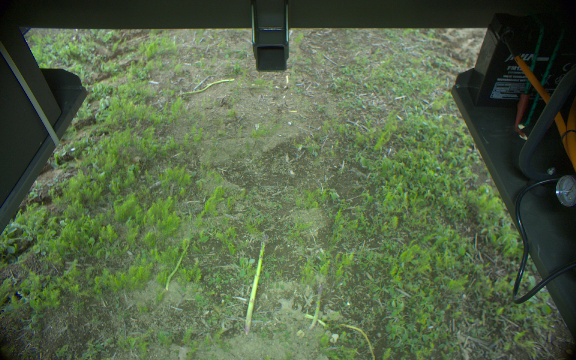aspa: (243, 234, 269, 335), (306, 280, 322, 333)
